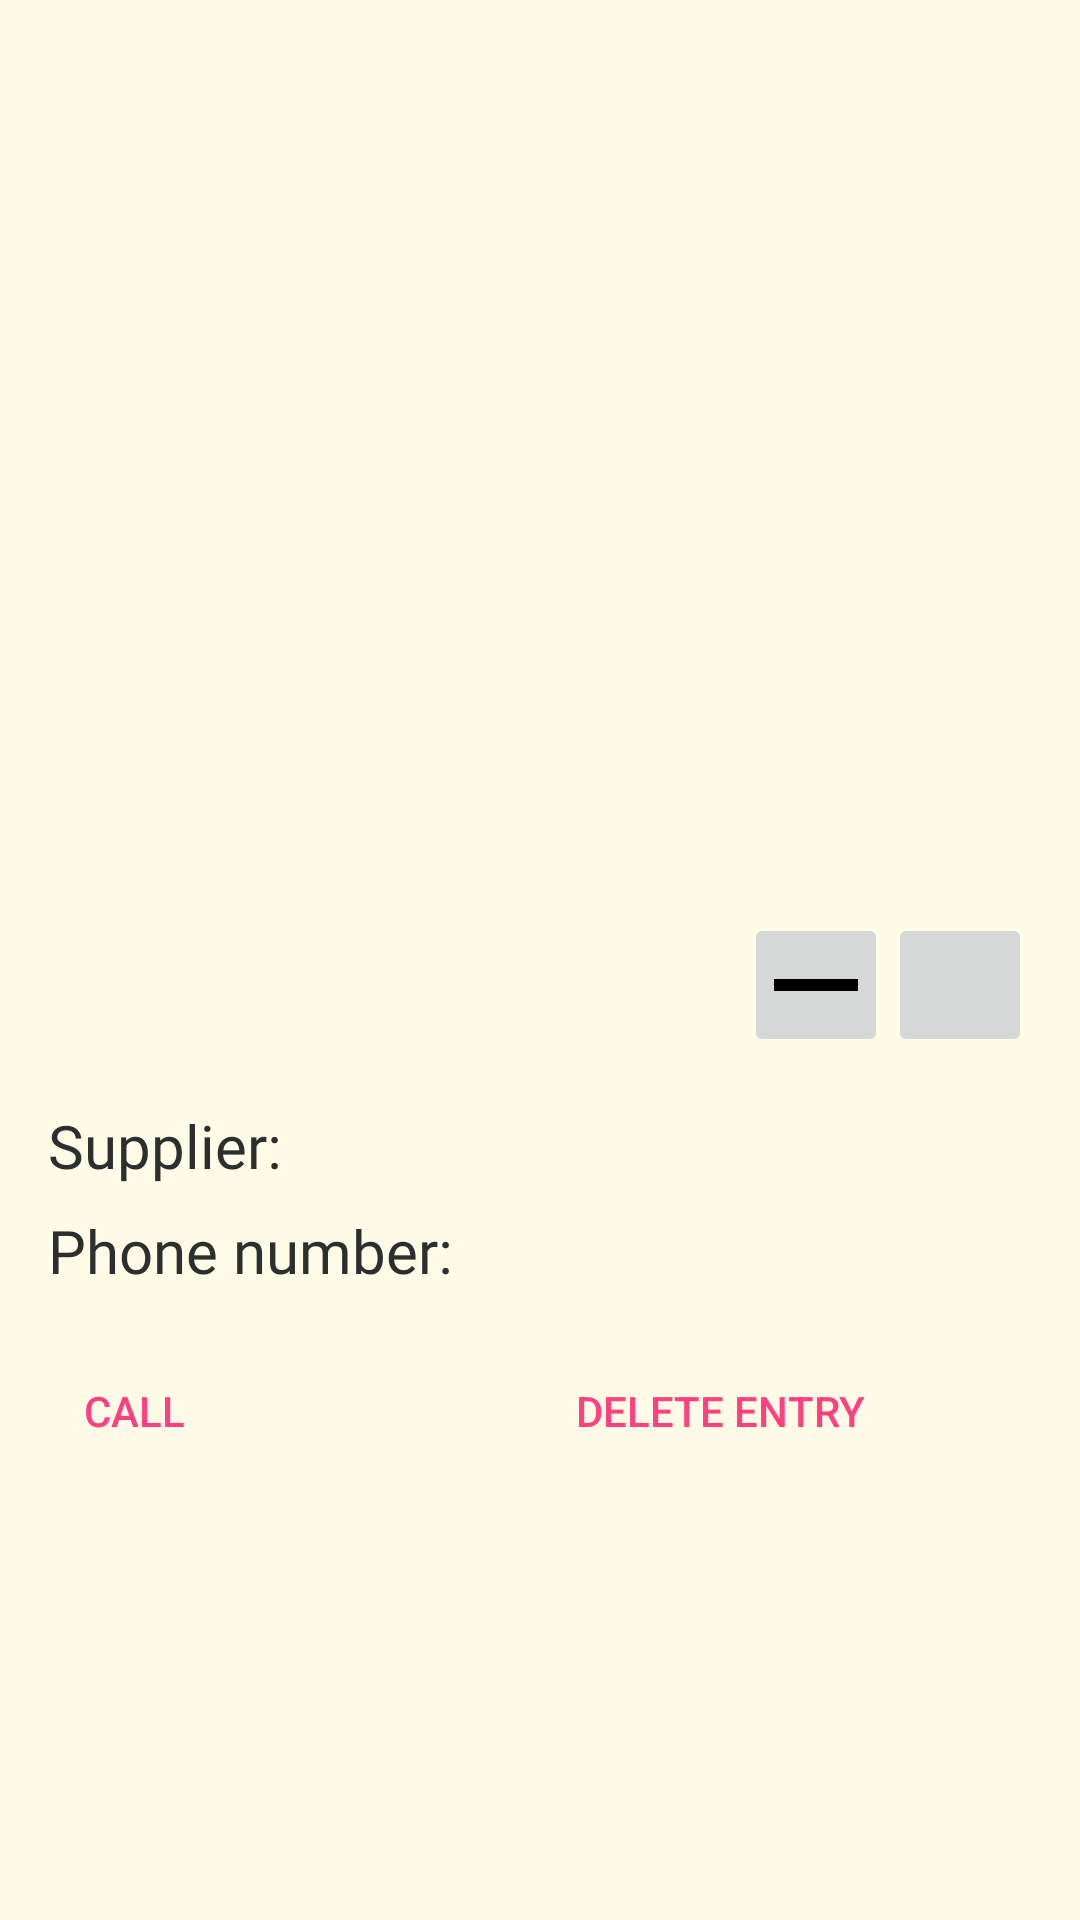

Where to tap for icons on this 1080w x 1920h app screen, as [x,y]:
Extract one from current quantity of this item: [816,985]
